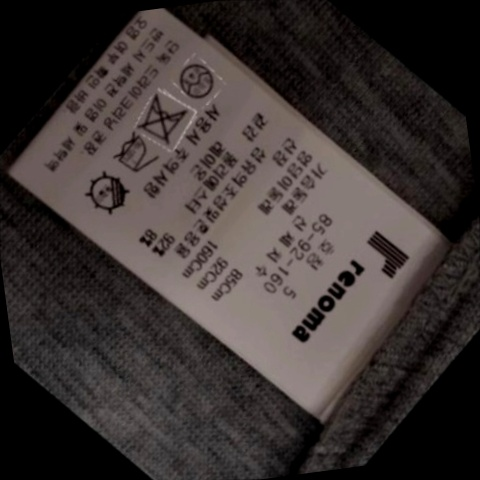DN_wash: (134, 91, 198, 148)
dry_clean_petrol_only: (173, 54, 224, 104)
iron_low: (106, 130, 163, 181)
line_dry_in_shade: (80, 167, 141, 221)
